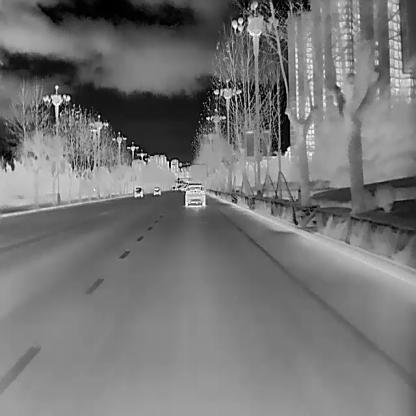car: (184, 182, 206, 206), (133, 186, 143, 198), (152, 186, 160, 195)
